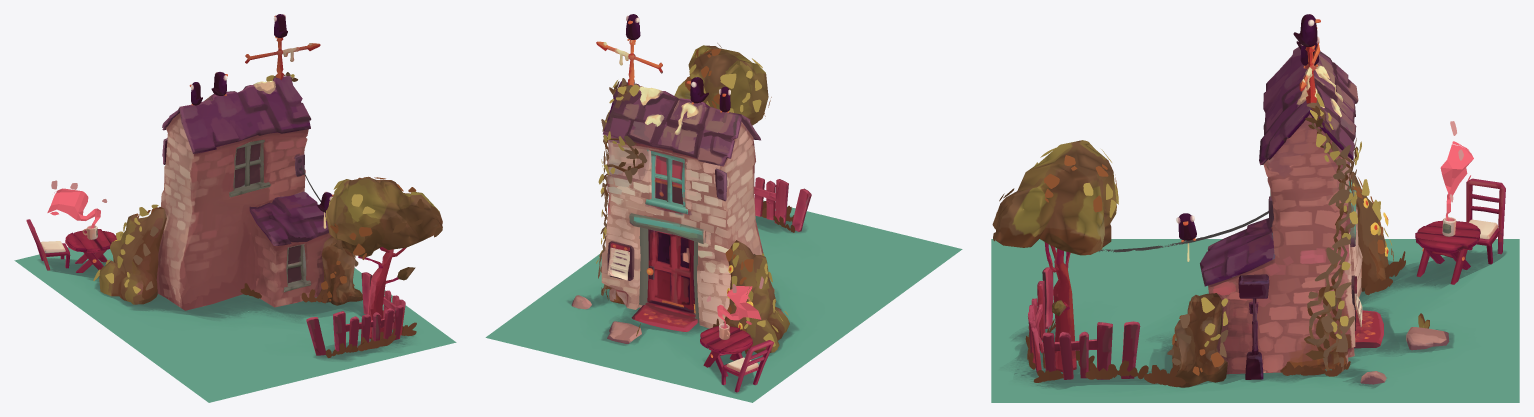
The model's file is painterly_cottage.glb.
3 renders of one model, left to right at view 1: azimuth 30°, elevation 25°; view 2: azimuth 150°, elevation 25°; view 3: azimuth 270°, elevation 25°, orthographic. The views are drawn at different scales.
Parts seen in each view (by area): view 1: polySurface55; view 2: polySurface55; view 3: polySurface55.
Boxes of the visible parts, x1,y1,x2,y2 form: polySurface55: (14, 14, 456, 402); polySurface55: (485, 14, 962, 402); polySurface55: (991, 14, 1519, 402).
Size of the model in its own units: 2.32 by 2.32 by 3.14.
Materials: 3 (3 with a texture image).
